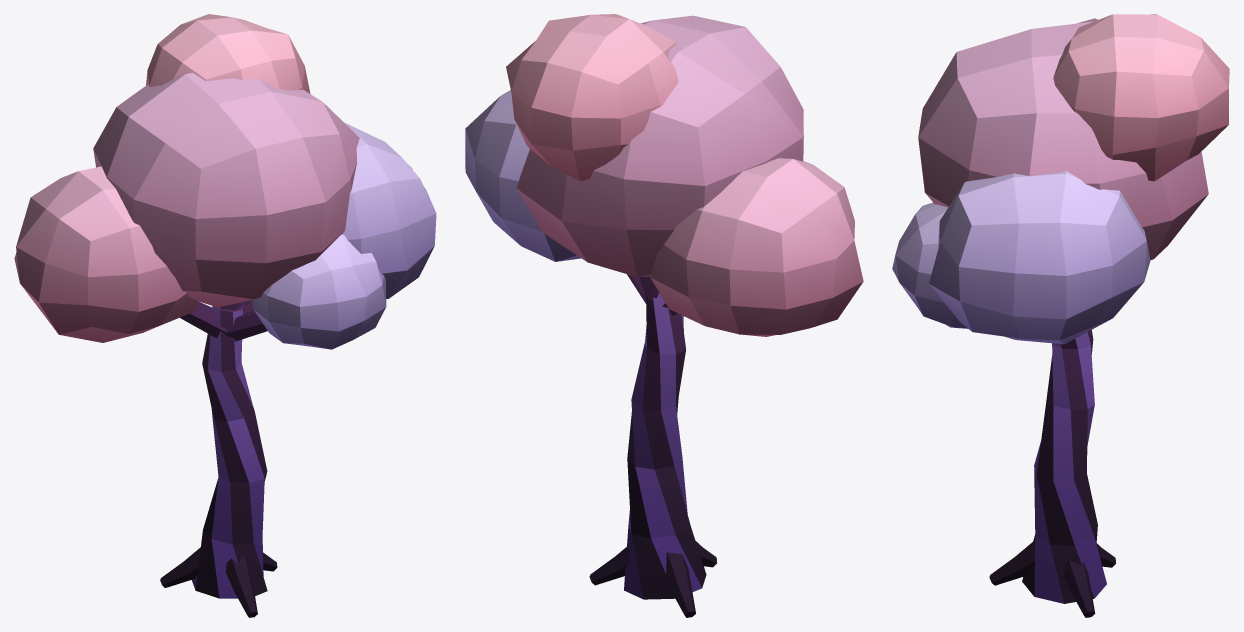
Rendered from PlayGround_Kit_Tree_Jelly_A.fbx.
The picture shows the model from 3 angles, left to right: view 1: azimuth 30°, elevation 25°; view 2: azimuth 150°, elevation 25°; view 3: azimuth 270°, elevation 25°; orthographic projection. The views are drawn at different scales.
Parts seen in each view (by area): view 1: PlayGround_Kit_Tree_Jelly_A; view 2: PlayGround_Kit_Tree_Jelly_A; view 3: PlayGround_Kit_Tree_Jelly_A.
Boxes of the visible parts, <box> form: PlayGround_Kit_Tree_Jelly_A: <box>14,14,436,617</box>; PlayGround_Kit_Tree_Jelly_A: <box>465,14,863,617</box>; PlayGround_Kit_Tree_Jelly_A: <box>892,14,1229,617</box>.
Bounding box in the file's own units: 4.54 × 6.32 × 3.33.
